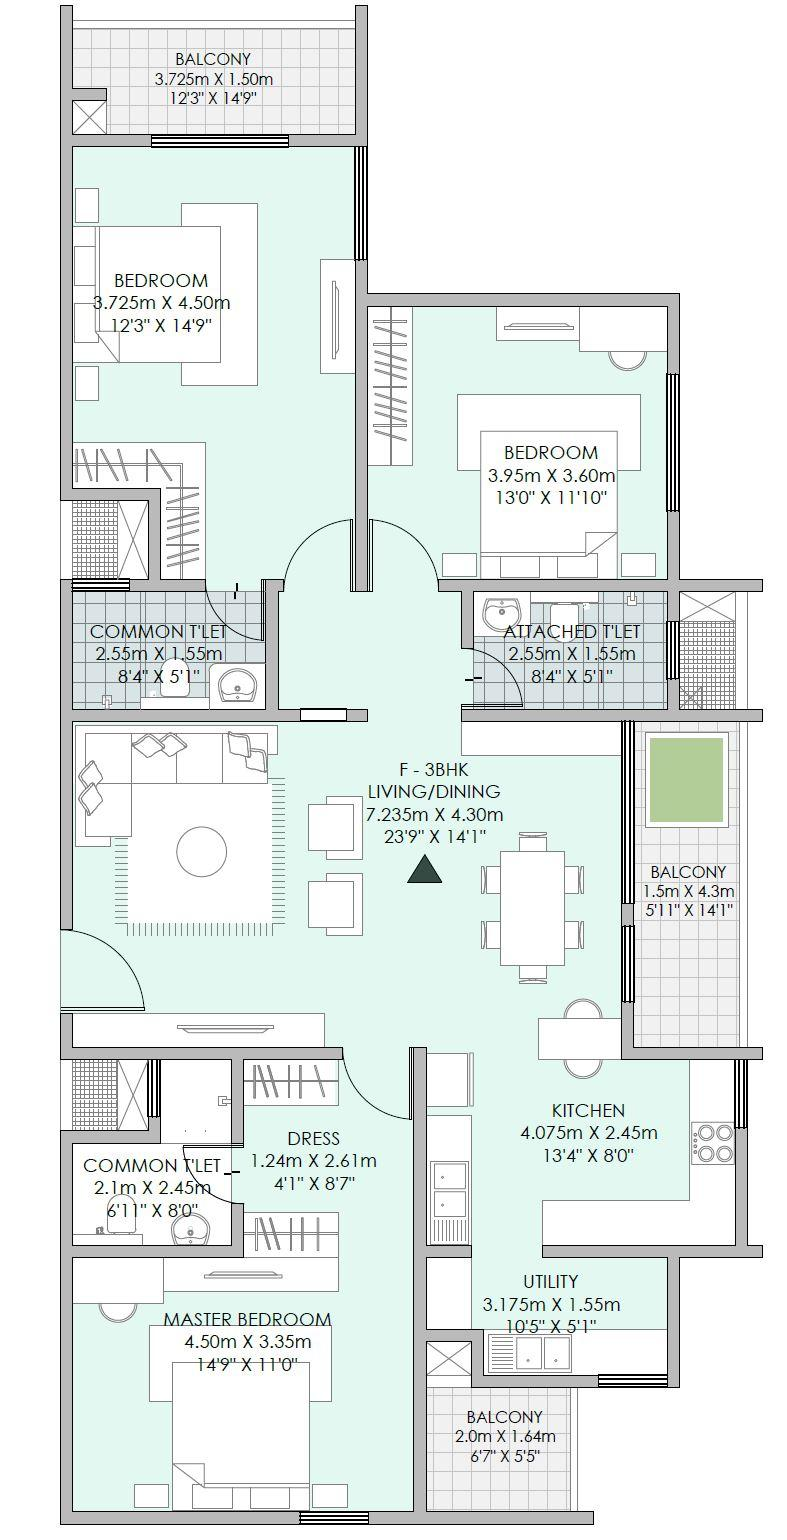Balcony: (66, 7, 355, 139), (629, 723, 743, 1052), (425, 1396, 572, 1517)
Bed: (72, 222, 219, 360), (483, 430, 616, 579), (173, 1362, 306, 1508)
Bedroom: (72, 144, 356, 579), (69, 1249, 416, 1517), (365, 301, 674, 592)
Dining Room: (420, 719, 632, 1066)
Dining table: (475, 766, 613, 976)
Kitchen: (429, 1059, 737, 1241)
Living Room: (74, 722, 415, 1052)
Sofa: (83, 733, 276, 787), (83, 734, 135, 839), (306, 870, 362, 934), (302, 797, 358, 857)
Wardrobe: (366, 302, 410, 469), (460, 720, 622, 759), (74, 443, 207, 486), (247, 1052, 335, 1107), (158, 469, 201, 578), (248, 1208, 335, 1256)
commode: (159, 656, 193, 704), (103, 1191, 143, 1229), (553, 604, 580, 638)
door: (55, 927, 146, 1006), (276, 514, 353, 582), (341, 1053, 410, 1128), (367, 519, 437, 590), (623, 722, 640, 1005), (149, 126, 288, 156), (462, 642, 523, 708), (181, 1142, 242, 1204), (211, 586, 264, 647)
dress: (247, 1060, 413, 1253)
fridge: (428, 1055, 475, 1107)
kitchen-slab: (426, 1115, 475, 1331), (691, 1060, 740, 1249), (546, 1200, 737, 1246), (485, 1327, 669, 1374)
sink: (429, 1164, 468, 1244), (490, 1333, 571, 1371), (214, 662, 260, 709), (164, 1210, 214, 1248), (483, 598, 525, 630)
stove: (690, 1123, 734, 1163)
toilet: (474, 592, 674, 708), (71, 593, 264, 709), (70, 1148, 234, 1244), (163, 1061, 234, 1161)
tv: (173, 1258, 313, 1292), (319, 266, 354, 379), (164, 1016, 287, 1048), (503, 310, 573, 340)
utility: (431, 1251, 670, 1380)
washing-machine: (428, 1255, 474, 1328)
